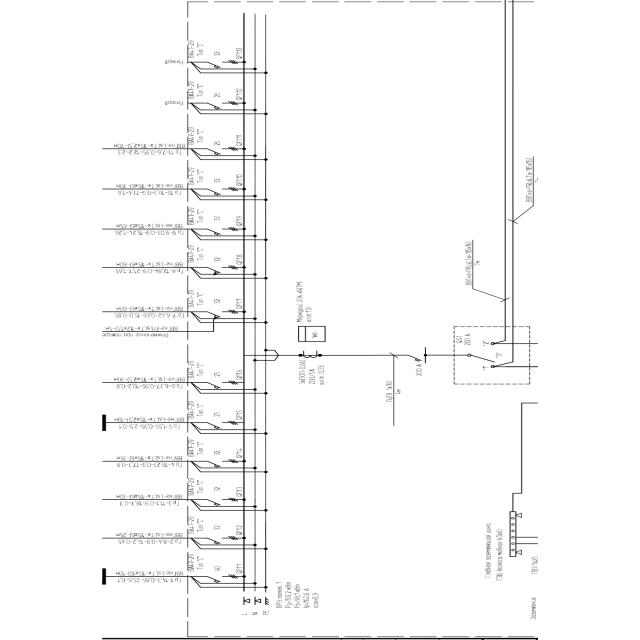-: (295, 359, 328, 386), (296, 279, 314, 323), (187, 80, 206, 102), (187, 166, 206, 187), (187, 399, 206, 420), (187, 205, 206, 226), (186, 437, 205, 458), (187, 125, 206, 146), (187, 243, 206, 264), (187, 40, 206, 60), (187, 360, 206, 380), (187, 476, 205, 497), (187, 515, 205, 536), (187, 552, 205, 573), (188, 288, 206, 308), (272, 580, 284, 608), (463, 332, 472, 347), (414, 364, 424, 376), (212, 448, 222, 456), (212, 298, 222, 306), (212, 178, 222, 186), (212, 524, 222, 532), (212, 256, 222, 264), (213, 564, 223, 572), (212, 50, 222, 57), (212, 139, 222, 146), (212, 372, 222, 379), (212, 215, 222, 222), (212, 412, 222, 418), (212, 486, 222, 492), (212, 92, 222, 98)
QF: (206, 265, 239, 275), (207, 226, 239, 236), (208, 146, 240, 156), (208, 59, 239, 69), (205, 310, 238, 319), (206, 574, 238, 583), (207, 420, 239, 429), (207, 101, 239, 110), (207, 498, 239, 507), (207, 380, 238, 389), (207, 536, 238, 545), (207, 187, 238, 196), (208, 459, 238, 468), (406, 353, 426, 362)
TT: (302, 349, 318, 359)
WH: (297, 325, 327, 342)
switch: (468, 342, 499, 369)
